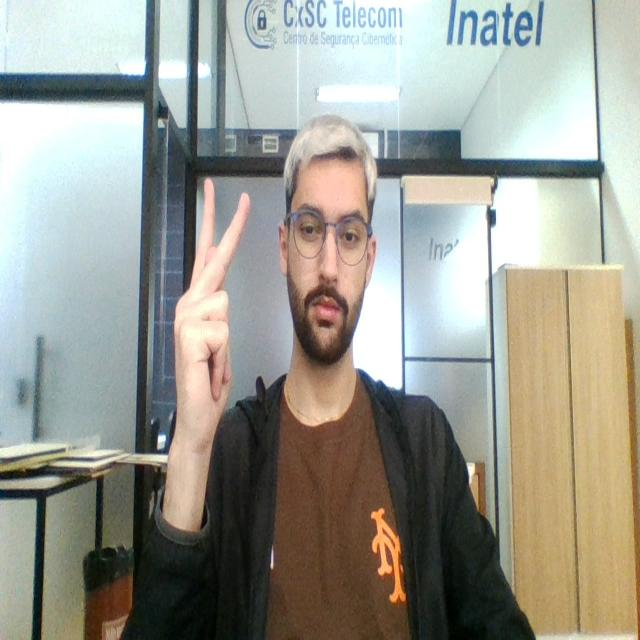K: (165, 170, 251, 458)
